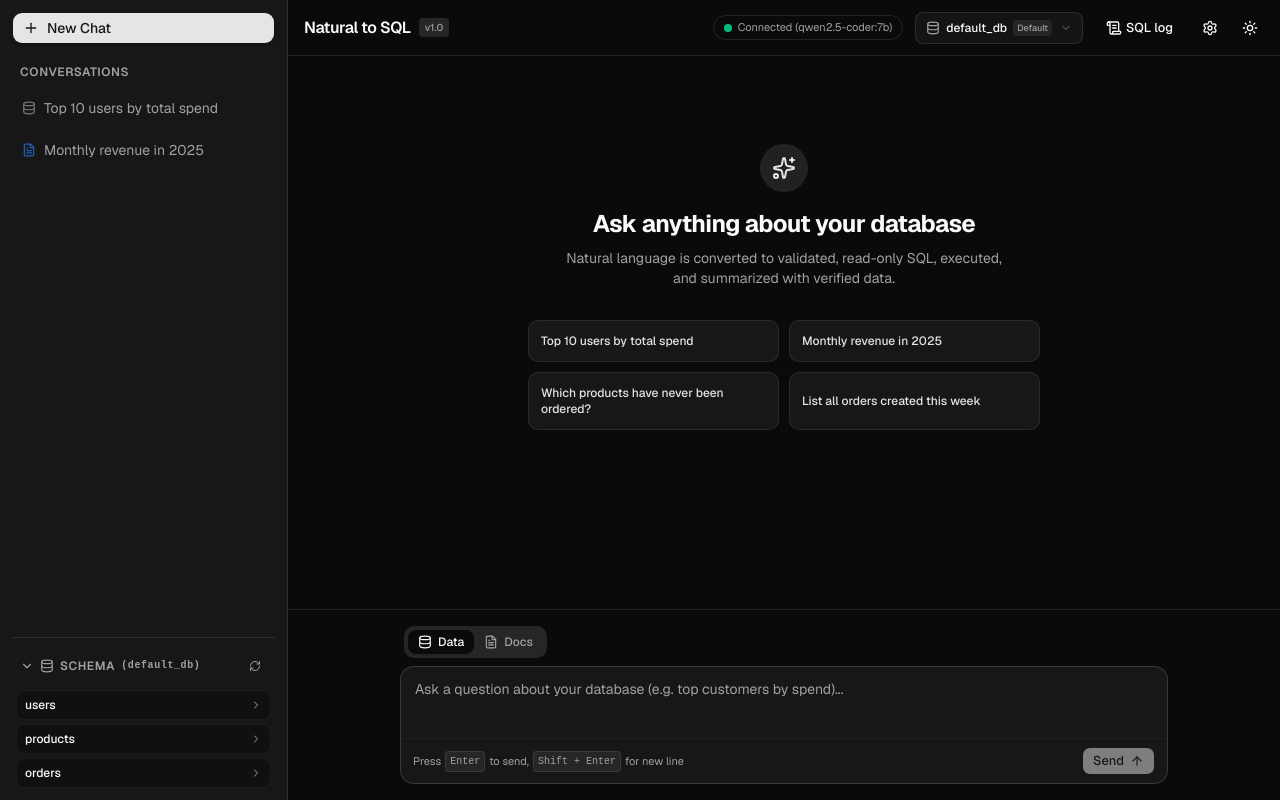
ChatLayout Component › renders empty state with example prompts and populates input
Expected: the heading "Ask anything about your database" is shown, 593,208 -> 975,240
Expected: the text box with placeholder "Ask a question about your database" is empty, 401,667 -> 1167,731
Click the button "Top 10 users by total spend" below "Ask anything about your database" at (654, 341), box 528,320 -> 779,362
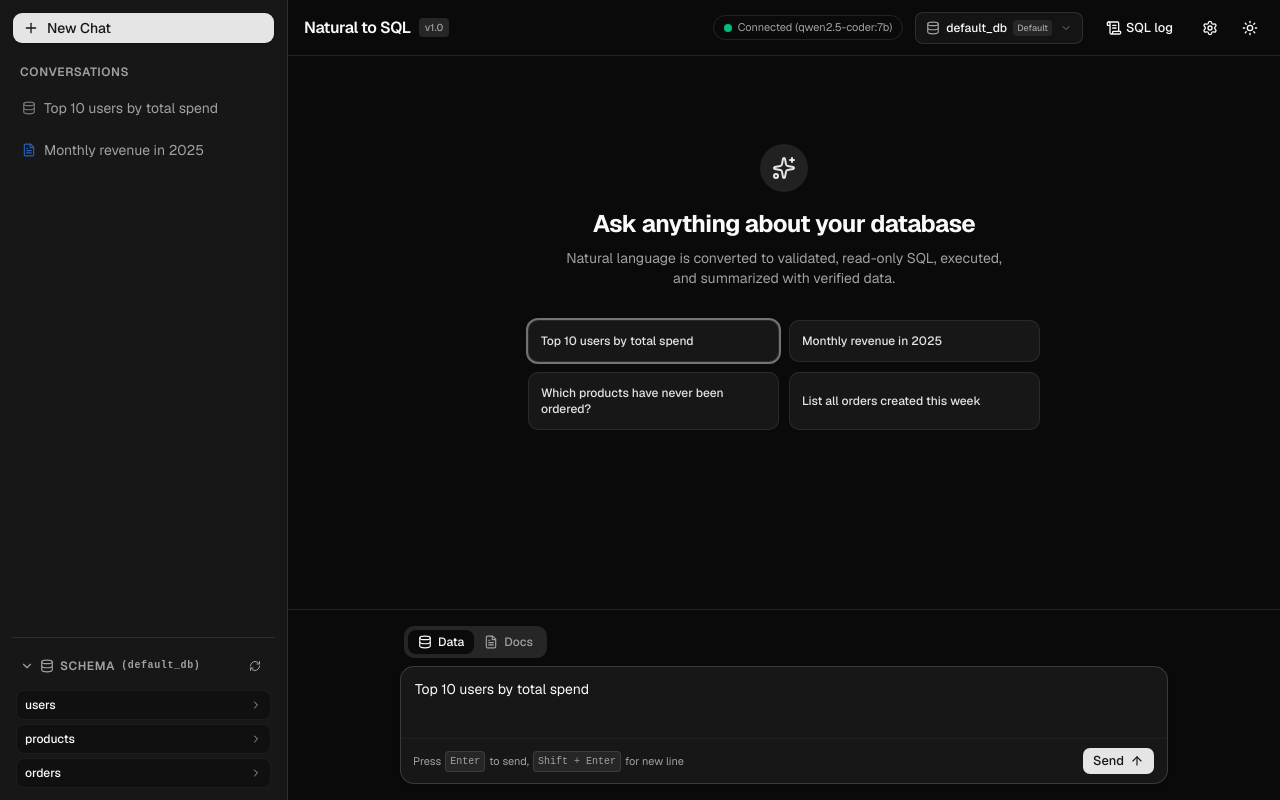
Expected: the text box with placeholder "Ask a question about your database" holds "Top 10 users by total spend", 401,667 -> 1167,731
